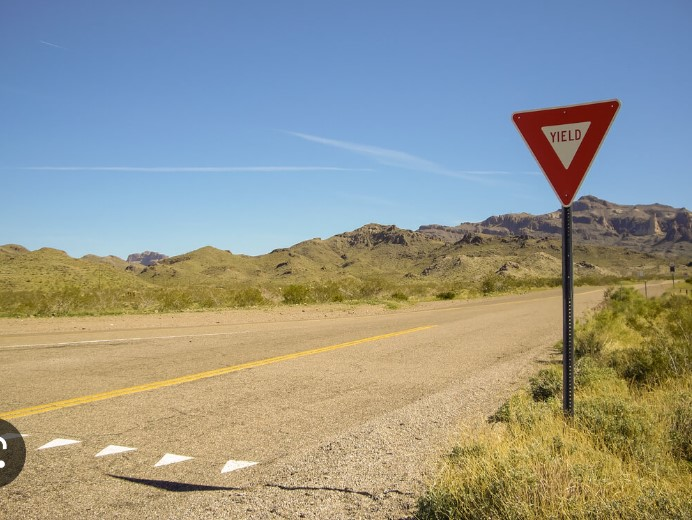Yeild: (509, 96, 627, 213)
